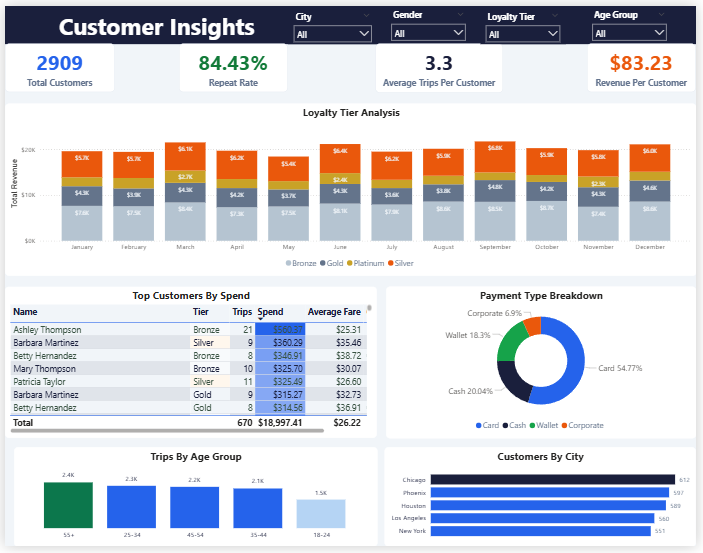

The page's visual inventory and layout, read from the dashboard file:
{"tool":"powerbi","page":{"name":"Customer Insights","canvas":[1280,1000],"ordinal":3},"visuals":[{"type":"shape","box":[0,0,1280.6,71],"z":0},{"type":"slicer","fields":{"Values":["locations.city"]},"box":[525.5,2.1,163.8,68.1],"z":1000},{"type":"card","title":"Total Trips","fields":{"Values":["Count(trips.customer_id)"]},"box":[0,70.7,203.2,90.1],"z":2000},{"type":"card","title":"Total Trips","fields":{"Values":["_Measures (2).repeat_customer_rate"]},"box":[323.4,70.7,201.5,90.1],"z":3000},{"type":"card","title":"Total Trips","fields":{"Values":["_Measures (2).avg_trips_per_customer"]},"box":[687.2,70.2,236.2,91.5],"z":4000},{"type":"card","title":"Total Trips","fields":{"Values":["_Measures (2).revenue_per_customer"]},"box":[1078.1,70.7,201.5,90.1],"z":5000},{"type":"slicer","fields":{"Values":["customers.loyalty_tier"]},"box":[880.9,2.1,157.4,68.1],"z":6000},{"type":"slicer","fields":{"Values":["customers.gender"]},"box":[704.3,0,157.4,68.1],"z":7000},{"type":"columnChart","title":"Loyalty Tier Analysis","fields":{"Category":["date_table.Month Name"],"Y":["_Measures (2).total_revenue"],"Series":["customers.loyalty_tier"]},"box":[0,180.8,1280.8,319.2],"z":8000},{"type":"clusteredBarChart","title":"Customers By City","fields":{"Category":["customers.city"],"Y":["_Measures (2).total_customers"]},"box":[703.8,815.4,576.9,184.6],"z":9000},{"type":"clusteredColumnChart","title":"Trips By Age Group","fields":{"Category":["customers.age_group"],"Y":["_Measures (2).total_trips"]},"box":[15.4,815.4,673.1,184.6],"z":10000},{"type":"donutChart","title":"Payment Type Breakdown","fields":{"Category":["trips.payment_type"],"Y":["_Measures (2).total_trips"]},"box":[705.2,519.6,574.4,281],"z":11000},{"type":"tableEx","title":"Top Customers By Spend","fields":{"Values":["customers.name","customers.loyalty_tier","_Measures (2).total_trips","_Measures (2).total_spend_per_customer","Avg(trips.fare_amount)","customers.city"]},"box":[0,519.2,688.5,280.8],"z":12000},{"type":"slicer","fields":{"Values":["customers.age_group"]},"box":[1078.7,0,157.4,68.1],"z":13000}]}

Visuals, with their boxes in screenshot pixels (x1, y1, x2, y2), scaled from the page's 1280x1000 canvas onto the 703x553 screenshot:
shape: locate(0, 0, 702, 39)
slicer - locations.city: locate(289, 1, 379, 39)
"Total Trips" card: locate(0, 39, 112, 89)
"Total Trips" card: locate(178, 39, 288, 89)
"Total Trips" card: locate(377, 39, 507, 89)
"Total Trips" card: locate(592, 39, 702, 89)
slicer - customers.loyalty_tier: locate(484, 1, 570, 39)
slicer - customers.gender: locate(387, 0, 473, 38)
"Loyalty Tier Analysis" columnChart: locate(0, 100, 702, 276)
"Customers By City" clusteredBarChart: locate(387, 451, 702, 552)
"Trips By Age Group" clusteredColumnChart: locate(8, 451, 378, 552)
"Payment Type Breakdown" donutChart: locate(387, 287, 702, 443)
"Top Customers By Spend" tableEx: locate(0, 287, 378, 442)
slicer - customers.age_group: locate(592, 0, 679, 38)
